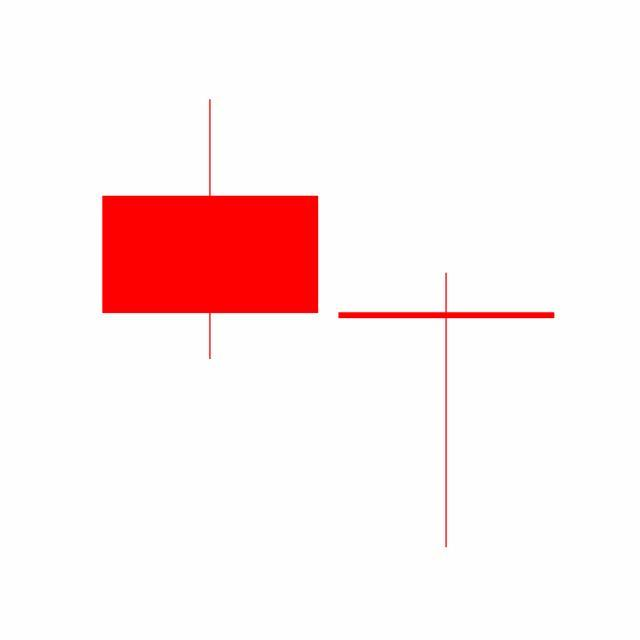Dragonfly Doji: (328, 270, 566, 551)
